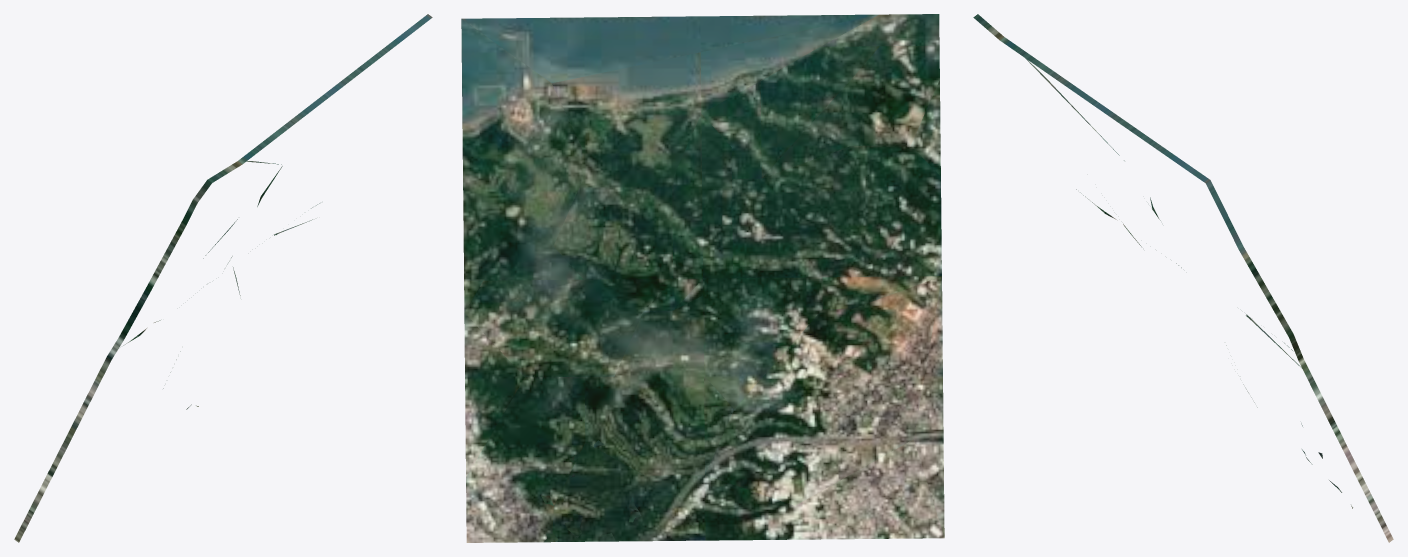
3 views of the same model, side by side, from view 1: azimuth 30°, elevation 25°; view 2: azimuth 150°, elevation 25°; view 3: azimuth 270°, elevation 25° (orthographic). The views are drawn at different scales.
Bounding box in the file's own units: 9939 × 8894 × 8255.
1 material, 1 textured.
